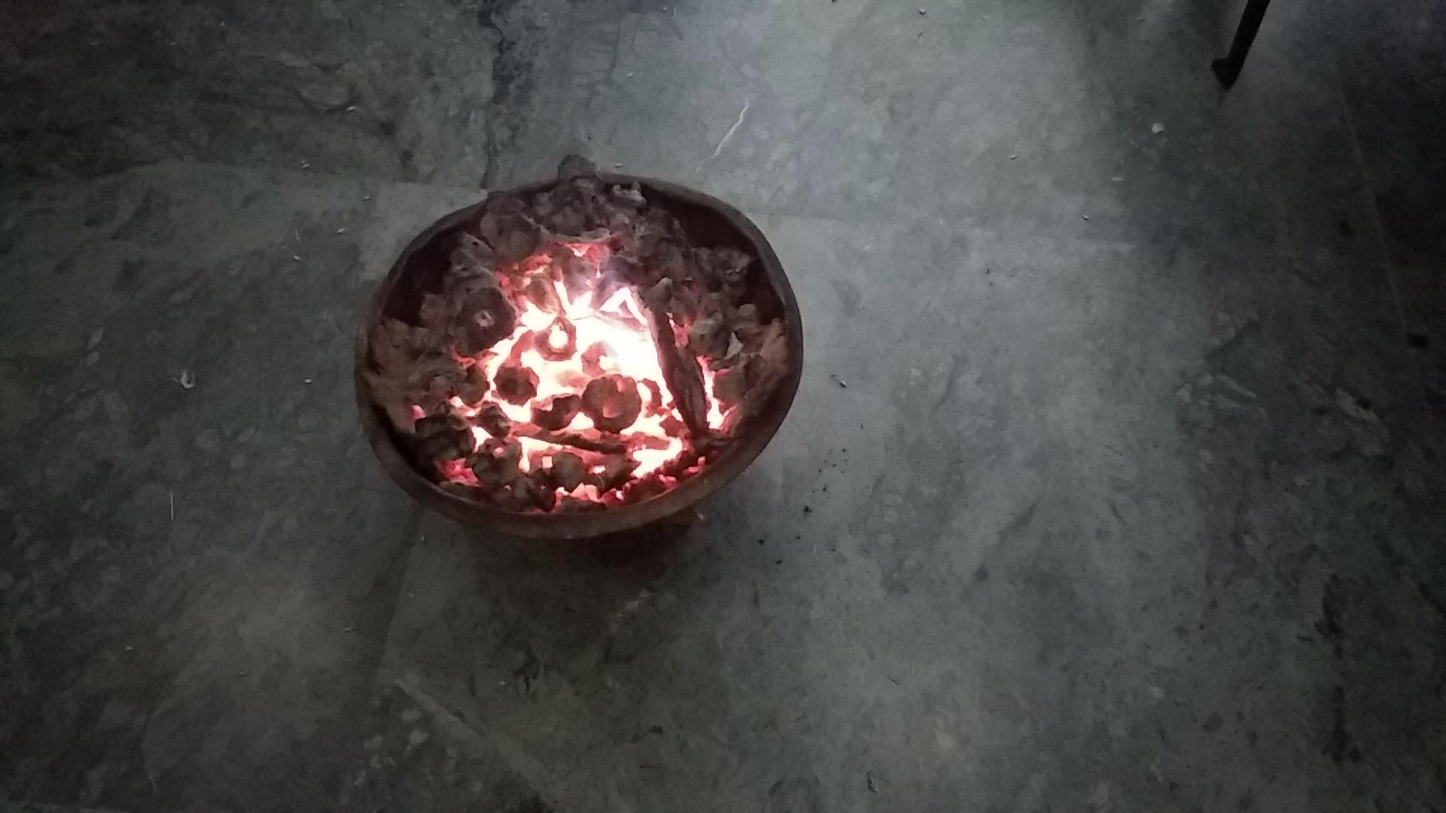fire: (409, 218, 737, 512)
